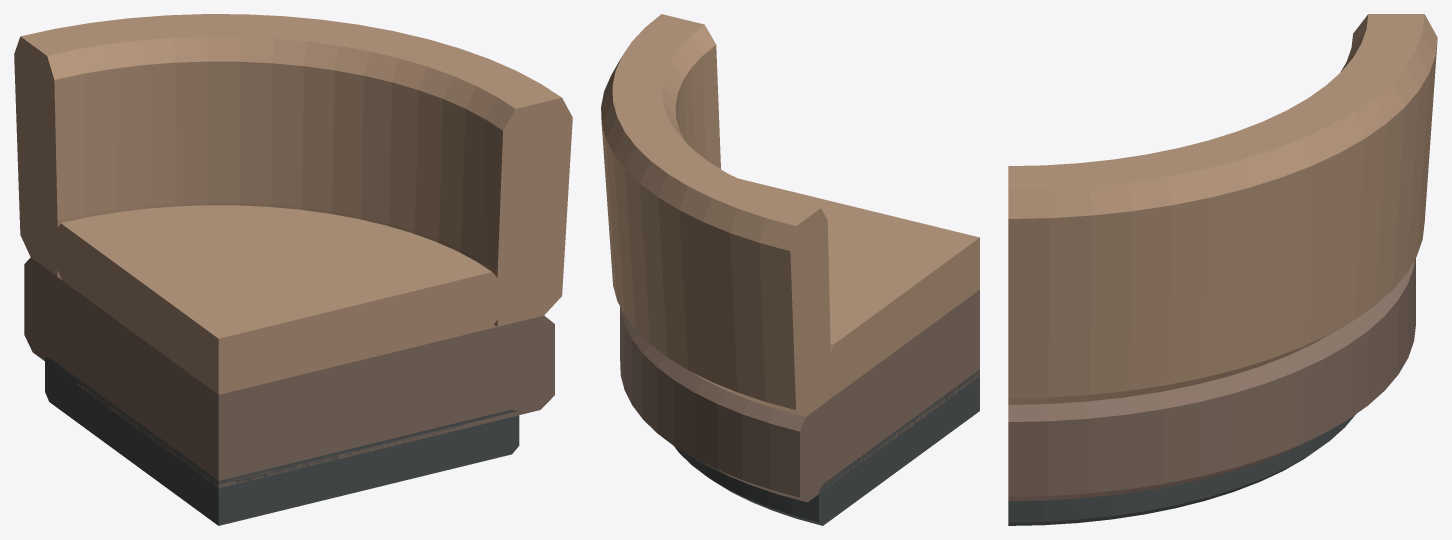
The picture shows the model from 3 angles, left to right: view 1: azimuth 30°, elevation 25°; view 2: azimuth 150°, elevation 25°; view 3: azimuth 270°, elevation 25°; orthographic projection. The views are drawn at different scales.
Parts seen in each view (by area): view 1: WholeContinuousCurvedPaddedBack, WholeSectorSeatCushion, WholeQuarterFoundation, RecessedQuarterPlinth; view 2: WholeContinuousCurvedPaddedBack, WholeQuarterFoundation, WholeSectorSeatCushion, RecessedQuarterPlinth; view 3: WholeContinuousCurvedPaddedBack, WholeQuarterFoundation, RecessedQuarterPlinth.
Boxes of the visible parts, left/top/right/bottom form: WholeContinuousCurvedPaddedBack: left=14, top=14, right=572, bottom=326; WholeSectorSeatCushion: left=57, top=205, right=497, bottom=394; WholeQuarterFoundation: left=24, top=257, right=554, bottom=488; RecessedQuarterPlinth: left=45, top=357, right=519, bottom=525; WholeContinuousCurvedPaddedBack: left=601, top=14, right=830, bottom=416; WholeQuarterFoundation: left=620, top=290, right=979, bottom=502; WholeSectorSeatCushion: left=738, top=178, right=979, bottom=395; RecessedQuarterPlinth: left=674, top=369, right=979, bottom=525; WholeContinuousCurvedPaddedBack: left=1008, top=14, right=1437, bottom=404; WholeQuarterFoundation: left=1008, top=258, right=1415, bottom=501; RecessedQuarterPlinth: left=1008, top=414, right=1355, bottom=525.
Size of the model in its own units: 0.99 by 0.92 by 0.99.
